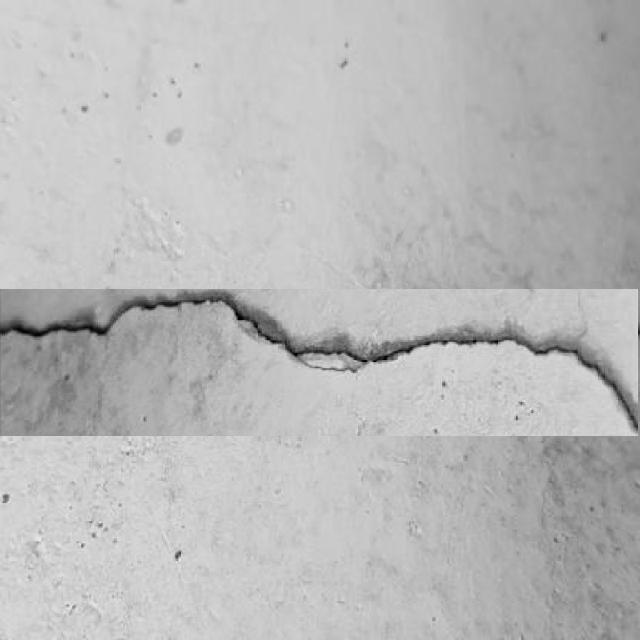horizontal crack: (1, 290, 637, 436)
